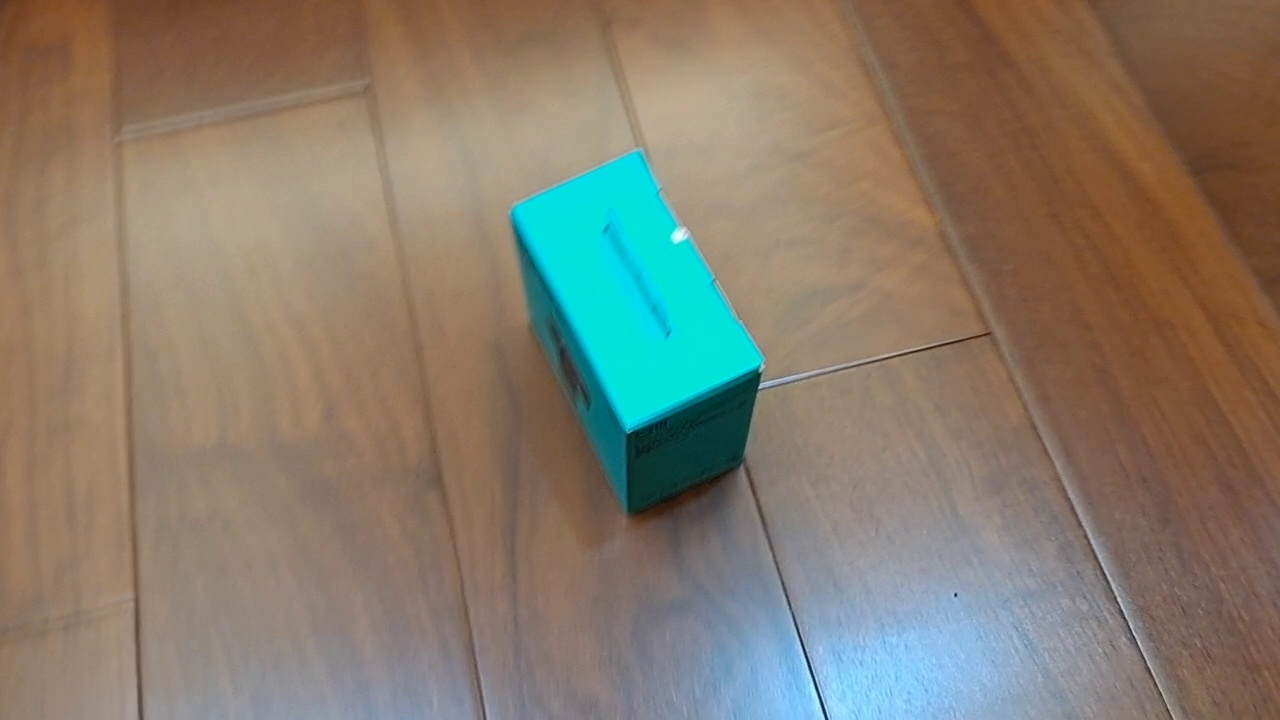webcam: (507, 146, 767, 518)
